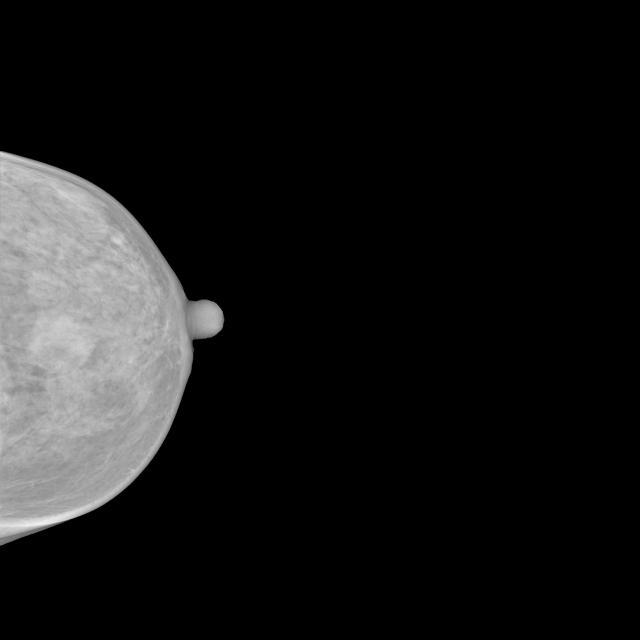Mass_1: (0, 293, 115, 393)
